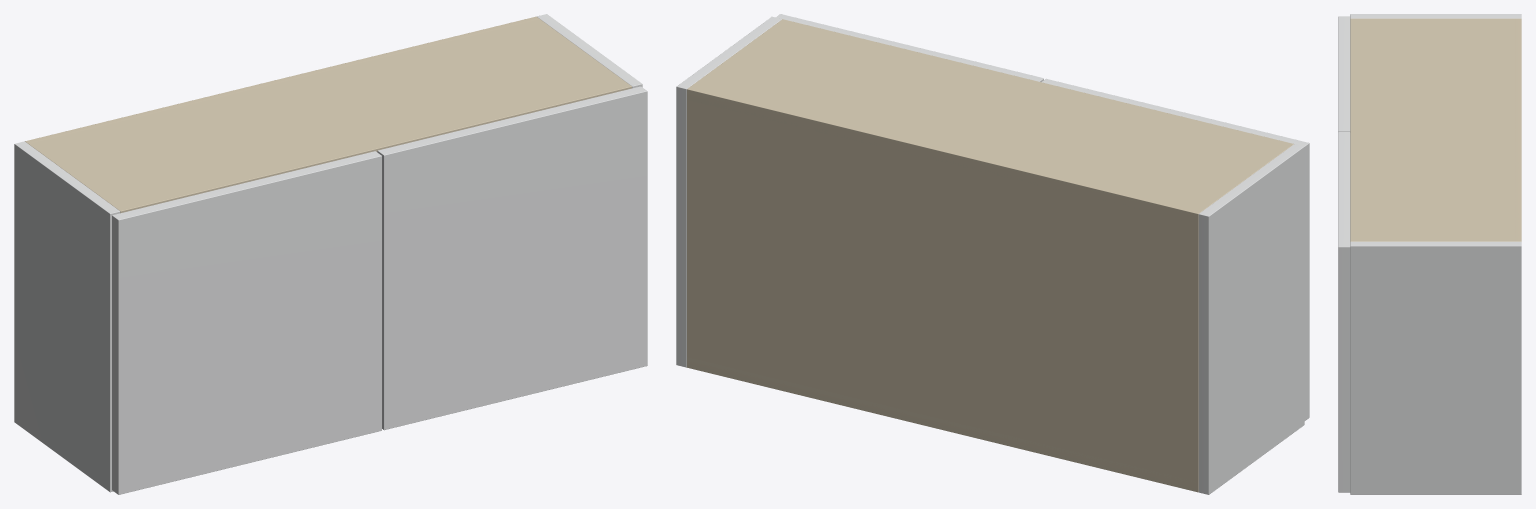
File: oppein-ply-pgw-w3618.glb
3 renders of one model, left to right at view 1: azimuth 30°, elevation 25°; view 2: azimuth 150°, elevation 25°; view 3: azimuth 270°, elevation 25°, orthographic. The views are drawn at different scales.
Visible parts, largest first — view 1: Door, Door.001, Cabinet top, Cabinet side, Cabinet back, Cabinet side.001; view 2: Cabinet back, Cabinet top, Cabinet side, Cabinet bottom, Cabinet side.001, Door, Door.001; view 3: Cabinet side.001, Cabinet top, Door.001, Cabinet back, Door, Cabinet side.
Part boxes in pixels (box(x1,y1,x2,y2)): Door: box(112, 151, 381, 494); Door.001: box(377, 86, 647, 430); Cabinet top: box(29, 19, 631, 213); Cabinet side: box(14, 141, 120, 492); Cabinet back: box(25, 16, 539, 143); Cabinet side.001: box(537, 14, 642, 88); Cabinet back: box(687, 86, 1201, 492); Cabinet top: box(687, 19, 1293, 221); Cabinet side: box(1198, 144, 1304, 494); Cabinet bottom: box(687, 357, 1198, 491); Cabinet side.001: box(676, 16, 781, 367); Door: box(1041, 78, 1309, 420); Door.001: box(776, 14, 1043, 81); Cabinet side.001: box(1350, 241, 1521, 494); Cabinet top: box(1350, 18, 1521, 241); Door.001: box(1338, 132, 1350, 492); Cabinet back: box(1514, 18, 1521, 241); Door: box(1338, 16, 1350, 131); Cabinet side: box(1350, 14, 1521, 18).
Size of the model in its own units: 0.9144 by 0.4572 by 0.3048.
